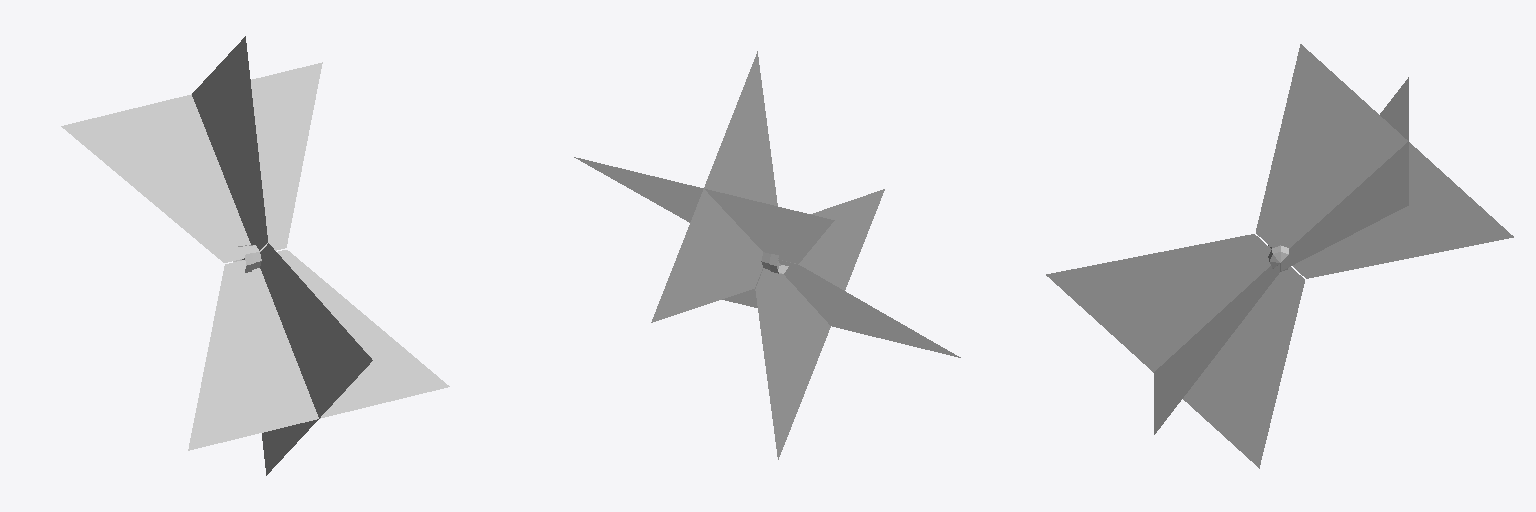
The model's file is stg400_MotRotlightA_w9_23.obj.
The picture shows the model from 3 angles: view 1: azimuth 30°, elevation 25°; view 2: azimuth 150°, elevation 25°; view 3: azimuth 270°, elevation 25°; orthographic projection.
Visible parts, largest first — view 1: polygon4; view 2: polygon4; view 3: polygon4.
Part boxes in pixels (x1,y1,x2,y2): polygon4: (61,36,449,475); polygon4: (574,51,960,459); polygon4: (1046,44,1513,468).
Bounding box in the file's own units: 91.26 × 141 × 141.